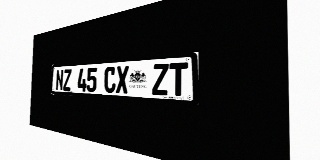4: (77, 68, 87, 92)
5: (87, 68, 97, 92)
C: (104, 66, 116, 93)
N: (56, 70, 63, 91)
T: (169, 62, 188, 96)
X: (116, 66, 129, 94)
Z: (152, 63, 169, 95), (63, 69, 71, 91)
